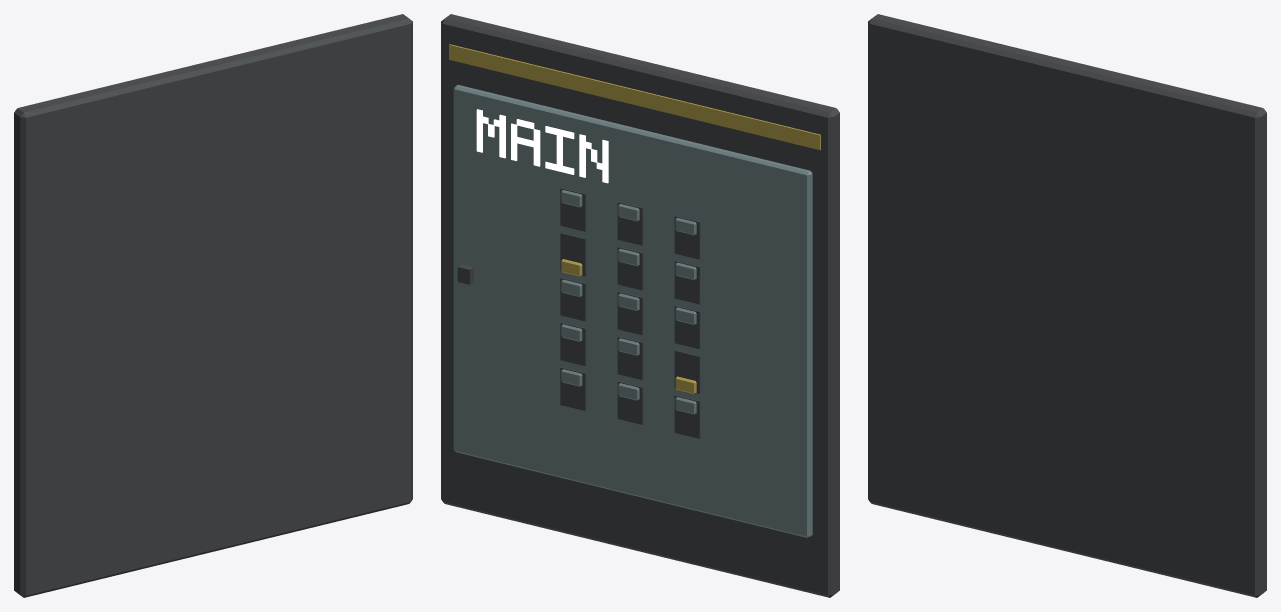
File: fuse_panel.glb
The picture shows the model from 3 angles, left to right: view 1: azimuth 30°, elevation 25°; view 2: azimuth 150°, elevation 25°; view 3: azimuth 330°, elevation 25°; orthographic projection.
Parts seen in each view (by area): view 1: fuse_panel; view 2: fuse_panel; view 3: fuse_panel.
Part boxes in pixels (x1,y1,x2,y2): fuse_panel: (14, 14, 412, 597); fuse_panel: (441, 14, 839, 597); fuse_panel: (868, 14, 1266, 597).
Size of the model in its own units: 1.1 by 1.3 by 0.09.
